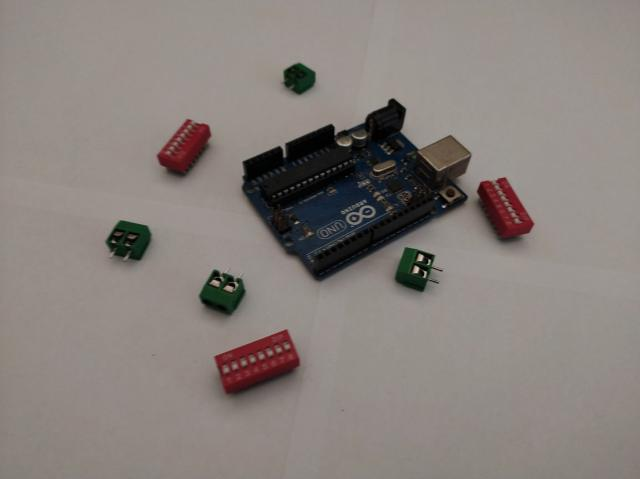arduino: (243, 97, 472, 276)
dip_switch: (216, 330, 300, 394), (478, 178, 534, 240), (157, 118, 210, 176)
terminal_block: (200, 266, 247, 316), (395, 248, 443, 292), (105, 220, 151, 262), (282, 63, 316, 94)
